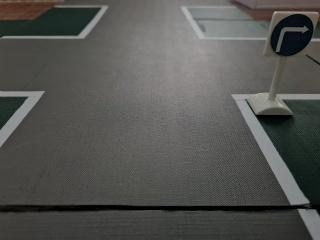right: (268, 8, 315, 62)
